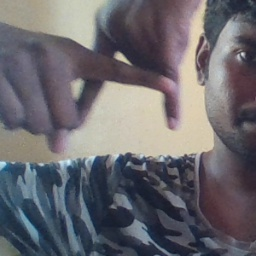H: (61, 19, 197, 141)
